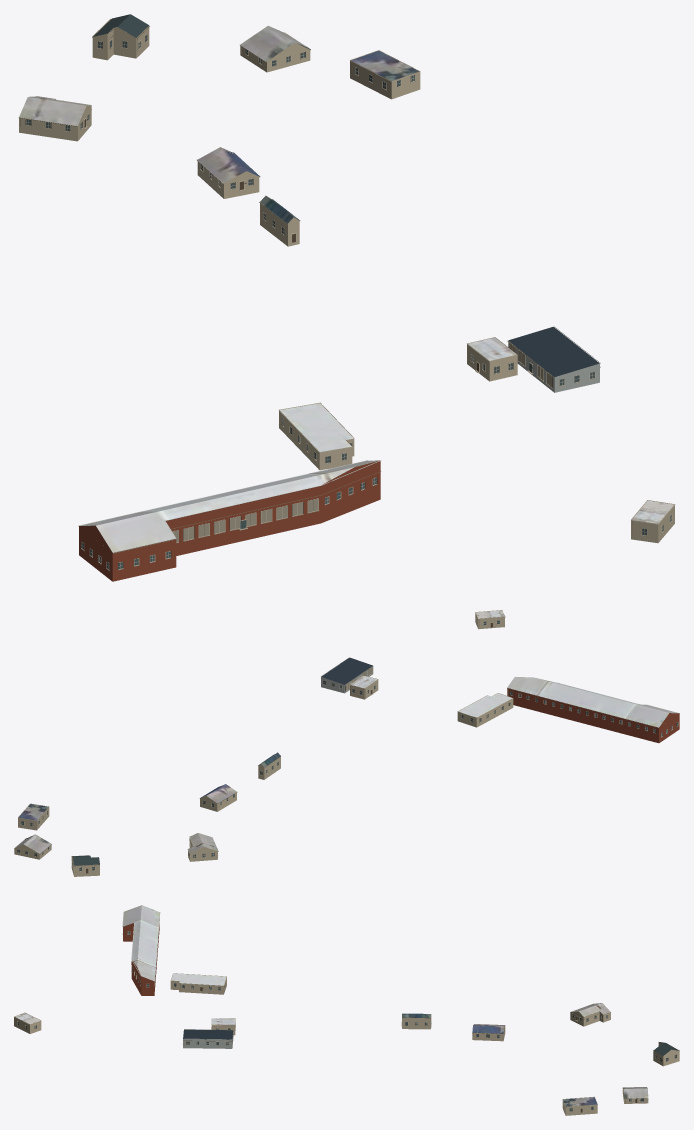
The picture shows the model from 3 angles, top to bottom: view 1: azimuth 30°, elevation 25°; view 2: azimuth 150°, elevation 25°; view 3: azimuth 270°, elevation 25°; orthographic projection. The views are drawn at different scales.
Visible parts, largest first — view 1: 2_-5_598630026_3, 2_-5_598630024_2, 2_-5_598630027_4; view 2: 2_-5_598630026_3, 2_-5_598630024_2, 2_-5_598630027_4; view 3: 2_-5_598630026_3, 2_-5_598630024_2, 2_-5_598630027_4.
Part boxes in pixels (<box>): 2_-5_598630026_3: <box>19,25,674,552</box>; 2_-5_598630024_2: <box>19,14,675,570</box>; 2_-5_598630027_4: <box>79,460,380,581</box>; 2_-5_598630026_3: <box>14,610,679,876</box>; 2_-5_598630024_2: <box>17,610,678,872</box>; 2_-5_598630027_4: <box>507,688,679,743</box>; 2_-5_598630026_3: <box>14,905,679,1115</box>; 2_-5_598630024_2: <box>14,918,679,1113</box>; 2_-5_598630027_4: <box>123,923,159,995</box>.
Bounding box in the file's own units: 207 × 16.99 × 319.
14 materials, 1 textured.
